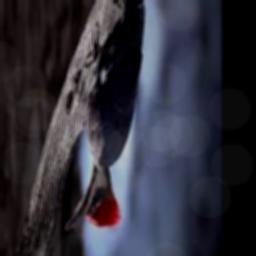Woodpecker: (66, 0, 147, 231)
